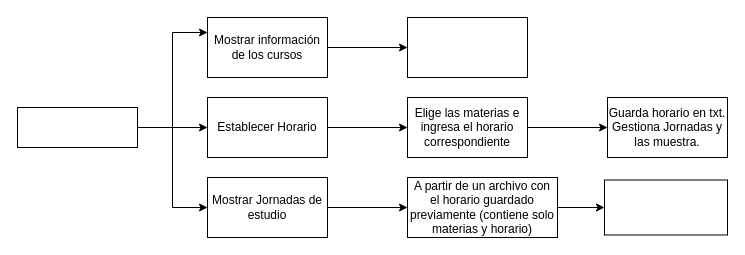
The diagram is 745 pixels wide and 255 high, and some of its shapes have lost their labels. The shapes that lost their labels are listed below. From the top down, each one's centre as x and y in pixels, then its label:
[467,47]: Muestra todo lo que está en el archivo de materias
[77,127]: Menú.
[666,207]: Almacena información del archivo como una matriz. Hace el respectivo cácluclo
